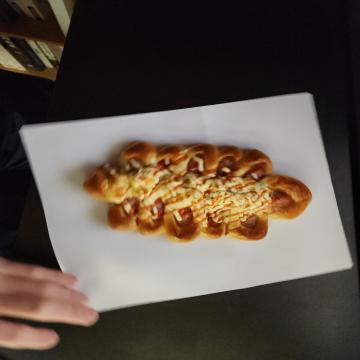pizza_bread: (141, 47, 243, 280)
